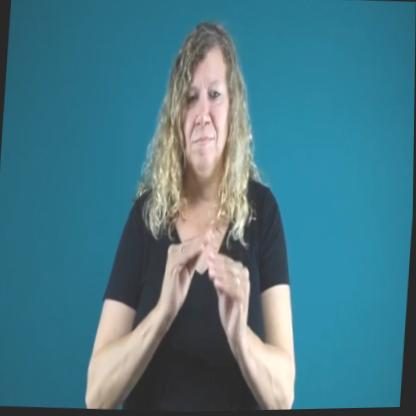Fix: (83, 12, 320, 414)
